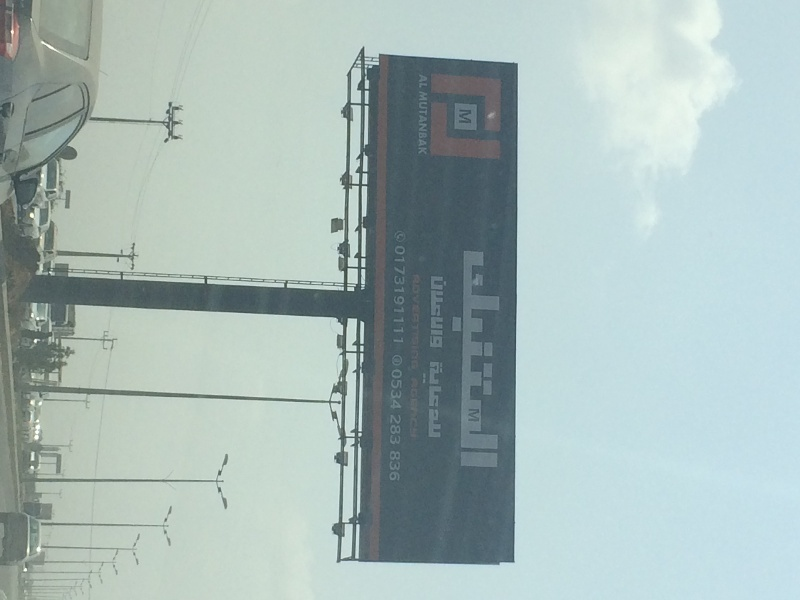text: (257, 300, 272, 350), (273, 300, 288, 350), (289, 300, 304, 350), (305, 300, 320, 350), (321, 300, 336, 350), (337, 300, 352, 350), (353, 300, 368, 350), (369, 300, 384, 350), (385, 300, 400, 350), (401, 300, 416, 350), (417, 300, 432, 350), (433, 300, 448, 350), (449, 300, 464, 350), (369, 354, 384, 380), (385, 354, 400, 380), (401, 354, 416, 380), (417, 354, 432, 380), (250, 300, 256, 350), (289, 354, 304, 371), (305, 354, 320, 371), (321, 354, 336, 371), (257, 395, 272, 409), (273, 395, 288, 409), (289, 395, 304, 409), (305, 395, 320, 409), (321, 395, 336, 409), (369, 398, 384, 412), (385, 398, 400, 412), (276, 354, 288, 371), (337, 354, 349, 371), (465, 300, 469, 350), (465, 400, 481, 412), (273, 379, 288, 391), (289, 379, 304, 391), (305, 379, 320, 391), (321, 379, 336, 391), (337, 379, 352, 391), (353, 379, 368, 391), (385, 380, 400, 392), (401, 380, 416, 392), (417, 380, 432, 392), (417, 399, 432, 411), (81, 372, 96, 383), (97, 372, 112, 383), (113, 372, 128, 383), (129, 372, 144, 383), (362, 354, 368, 380), (433, 354, 439, 380), (451, 400, 464, 412), (113, 329, 125, 342), (245, 395, 256, 409), (401, 398, 412, 412), (433, 399, 445, 411), (145, 372, 156, 383), (337, 395, 344, 409), (409, 320, 416, 333), (377, 380, 384, 392), (433, 380, 439, 392), (74, 372, 80, 383), (417, 320, 422, 333), (369, 379, 372, 391), (110, 329, 112, 342), (415, 399, 416, 411)
